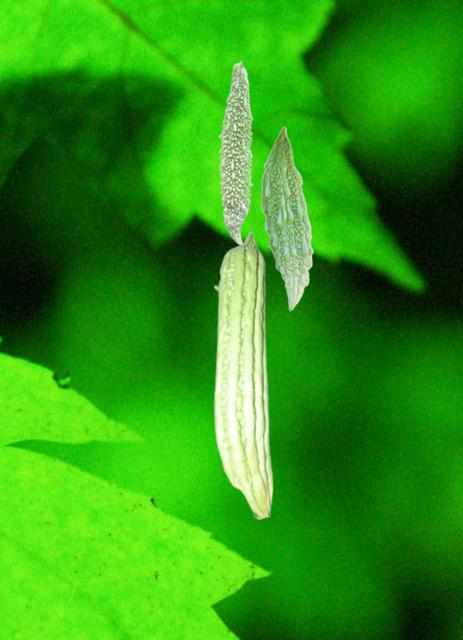ampalaya: (213, 230, 273, 520), (261, 126, 314, 311), (217, 58, 254, 244)
